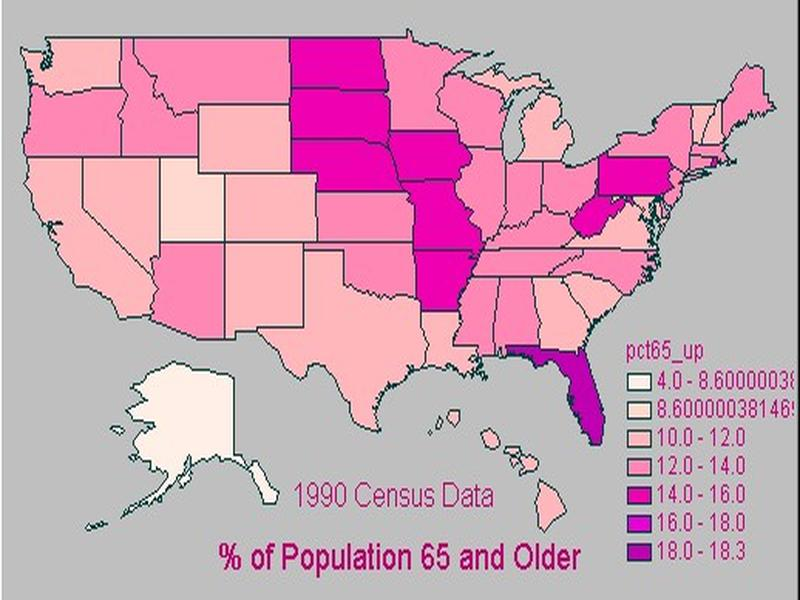legend: (623, 338, 790, 564)
